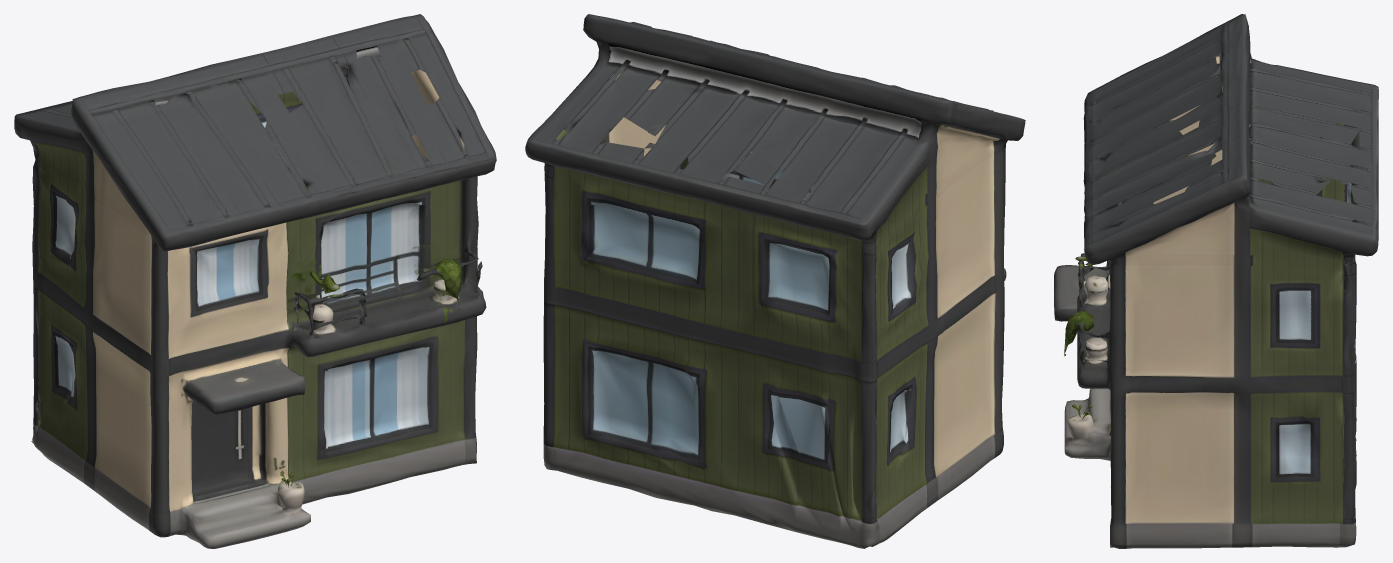
3 views of the same model, side by side, from view 1: azimuth 30°, elevation 25°; view 2: azimuth 150°, elevation 25°; view 3: azimuth 270°, elevation 25° (orthographic). The views are drawn at different scales.
Parts seen in each view (by area): view 1: house-steel; view 2: house-steel; view 3: house-steel.
Part boxes in pixels (left/top/right/bottom): house-steel: left=14, top=14, right=496, bottom=548; house-steel: left=525, top=14, right=1025, bottom=548; house-steel: left=1054, top=14, right=1378, bottom=548.
Bounding box in the file's own units: 7.47 × 8 × 6.2.
1 material, 1 textured.
